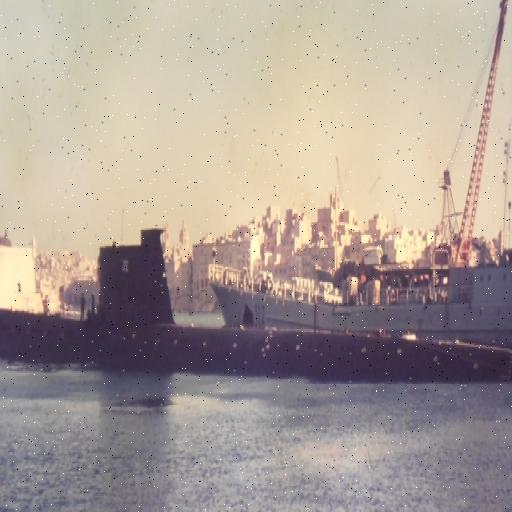submarine: (1, 226, 512, 388)
